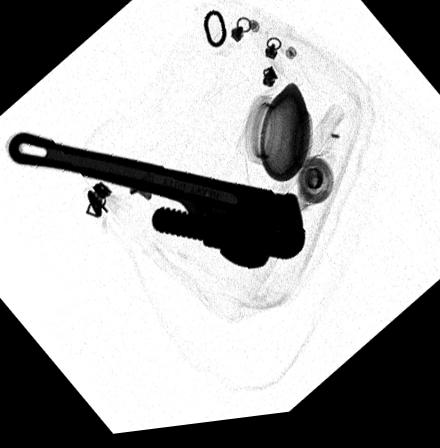Wrench: (7, 132, 305, 275)
